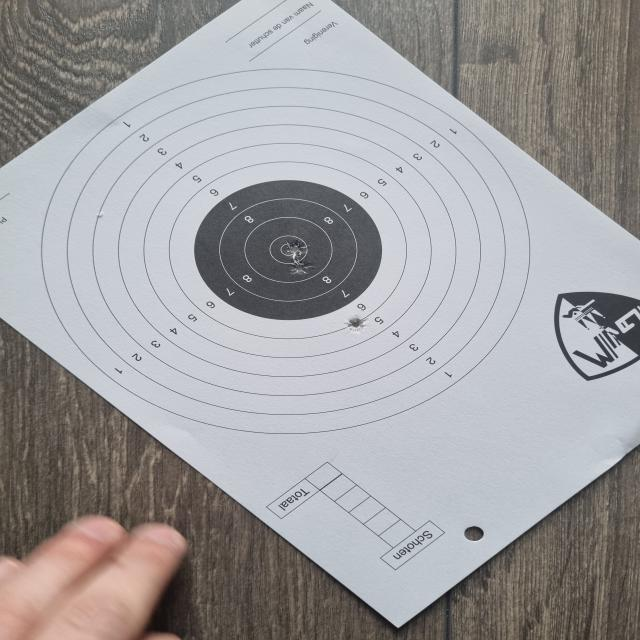10: (285, 240, 308, 260), (290, 260, 310, 275)
6: (345, 316, 368, 334)
Target: (40, 68, 531, 434)
black_contour: (194, 179, 382, 322)
